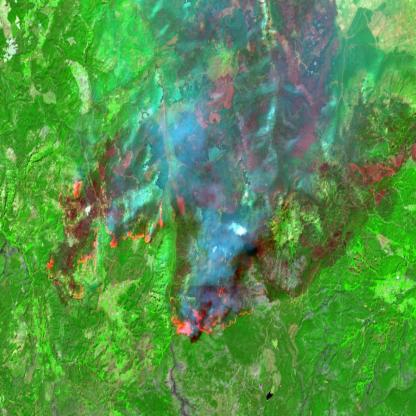fire: (42, 160, 158, 304), (164, 284, 266, 351)
